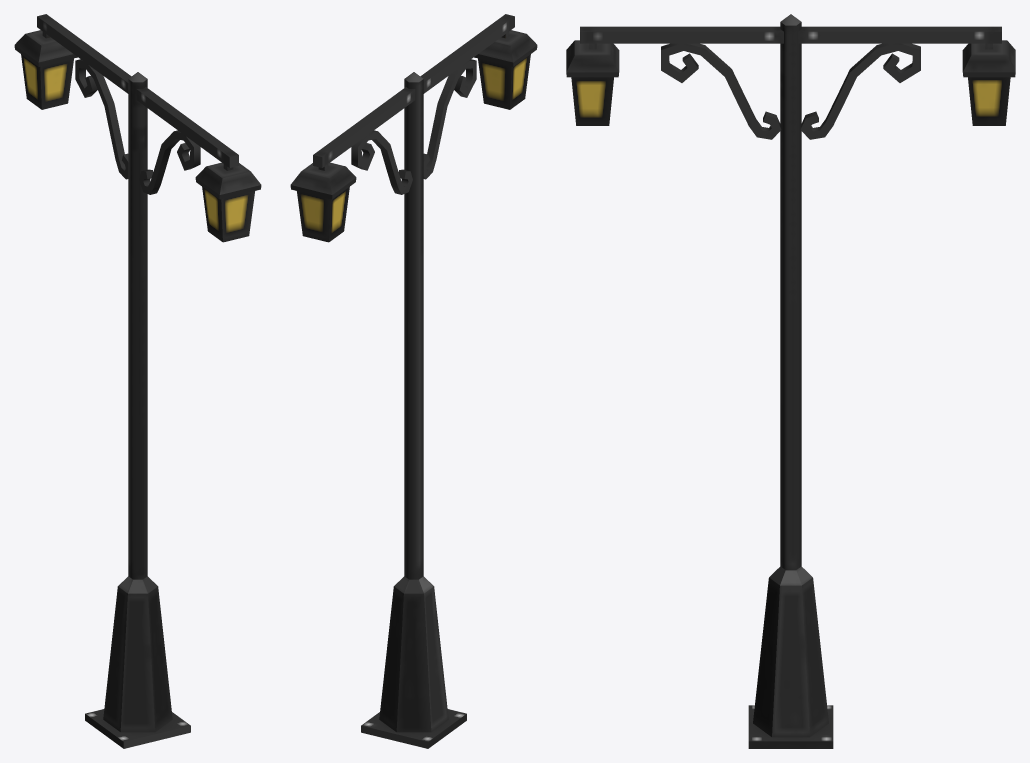
File: Street_Light_001_D.FBX
The picture shows the model from 3 angles, left to right: view 1: azimuth 30°, elevation 25°; view 2: azimuth 150°, elevation 25°; view 3: azimuth 270°, elevation 25°; orthographic projection. The views are drawn at different scales.
Parts seen in each view (by area): view 1: Street_Light_001_D; view 2: Street_Light_001_D; view 3: Street_Light_001_D.
Part boxes in pixels (x1,y1,x2,y2): Street_Light_001_D: (14,14,261,748); Street_Light_001_D: (290,14,537,748); Street_Light_001_D: (566,14,1015,748).
Size of the model in its own units: 30 by 159 by 280.
